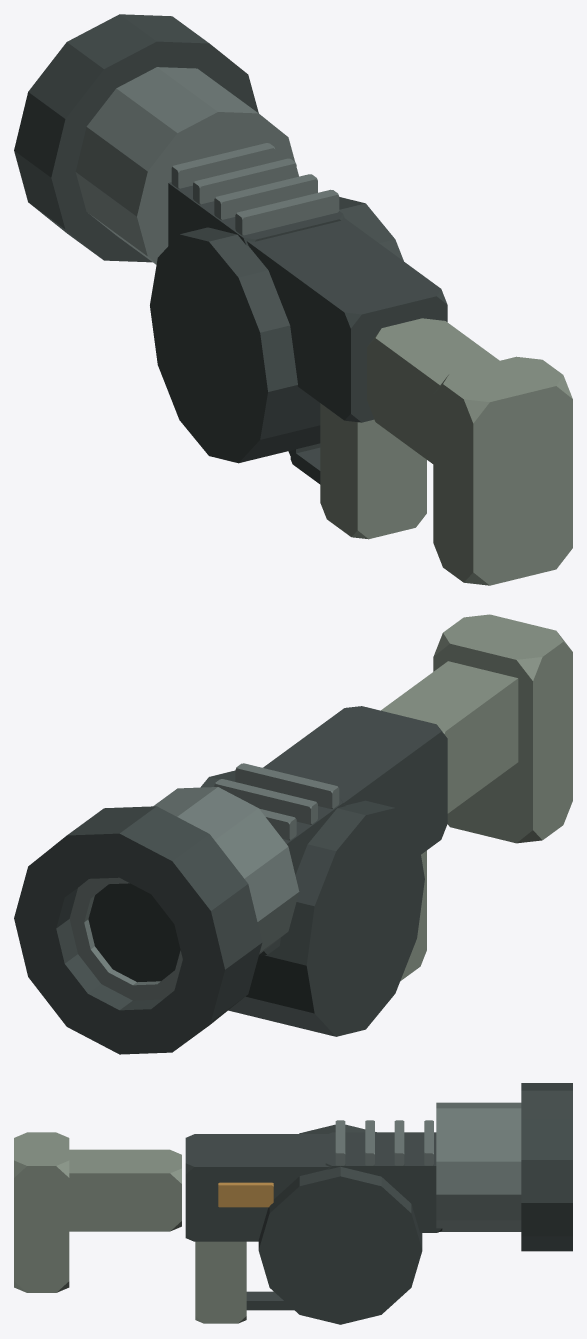
File: weapon_grenade_launcher.glb
3 renders of one model, top to bottom at view 1: azimuth 30°, elevation 25°; view 2: azimuth 150°, elevation 25°; view 3: azimuth 270°, elevation 25°, orthographic. The views are drawn at different scales.
Visible parts, largest first — view 1: weapon_grenade_launcher; view 2: weapon_grenade_launcher; view 3: weapon_grenade_launcher.
Part boxes in pixels (x1,y1,x2,y2): weapon_grenade_launcher: (14, 14, 572, 585); weapon_grenade_launcher: (14, 614, 572, 1054); weapon_grenade_launcher: (14, 1083, 572, 1324).
Bounding box in the file's own units: 0.2285 × 0.3305 × 0.7566.
